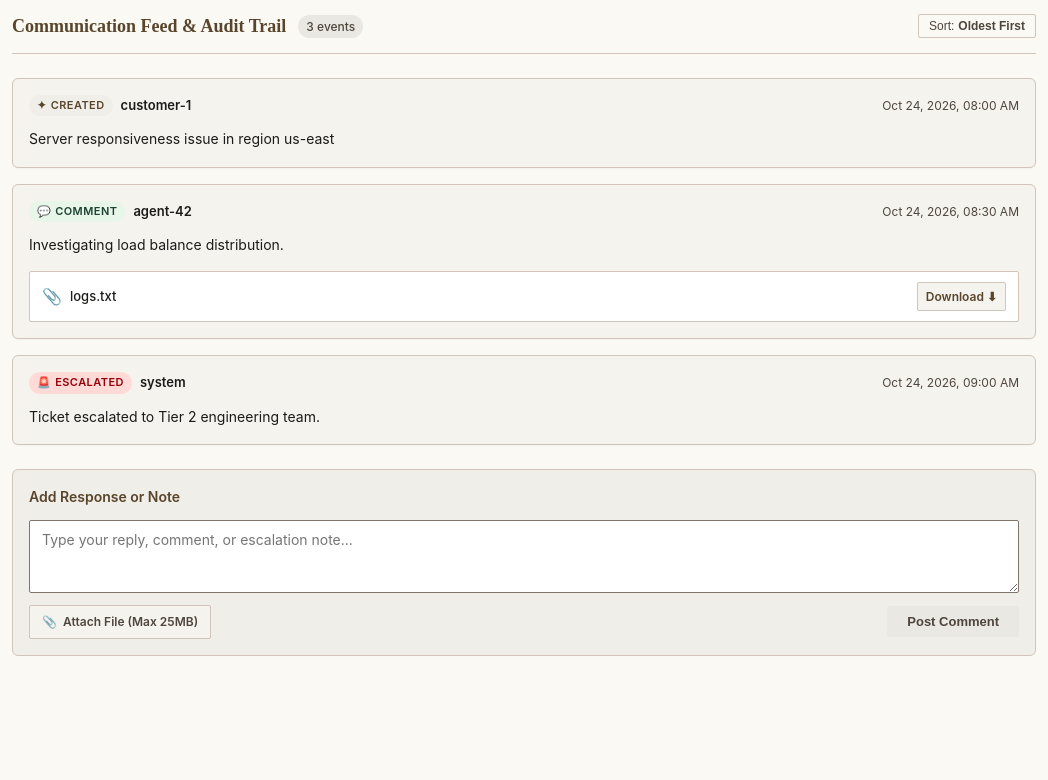
Scenario: CommunicationThread Component › toggles sort order between oldest first and newest first
Click the button with test id "sort-toggle-button" at (977, 26), box [918,14,1036,38]
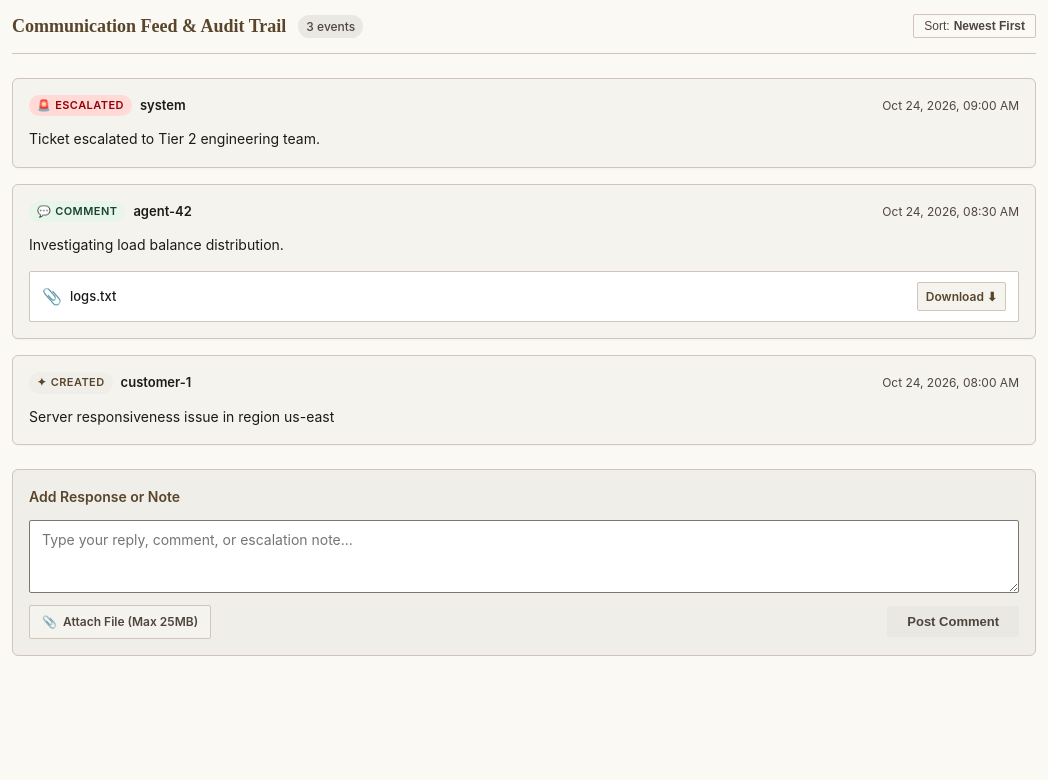
Expected: the button with test id "sort-toggle-button" shows "Newest First", [913,14,1036,38]
